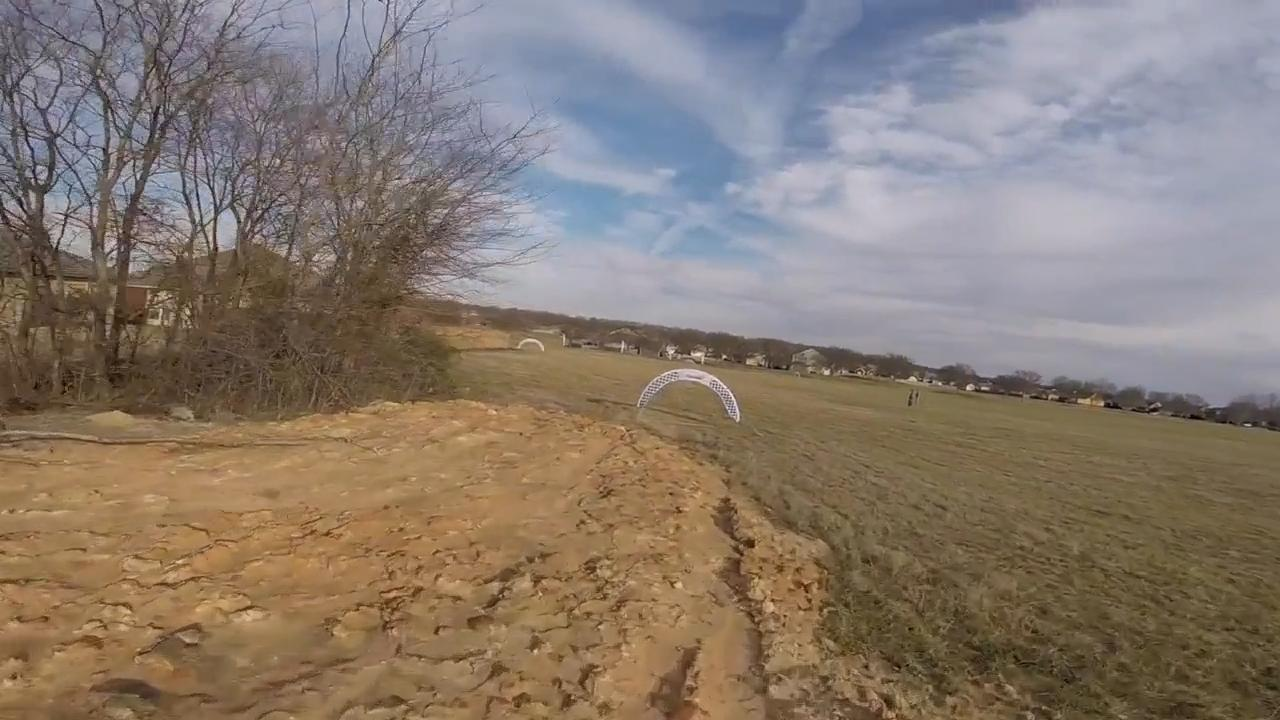gate: (637, 366, 741, 425)
